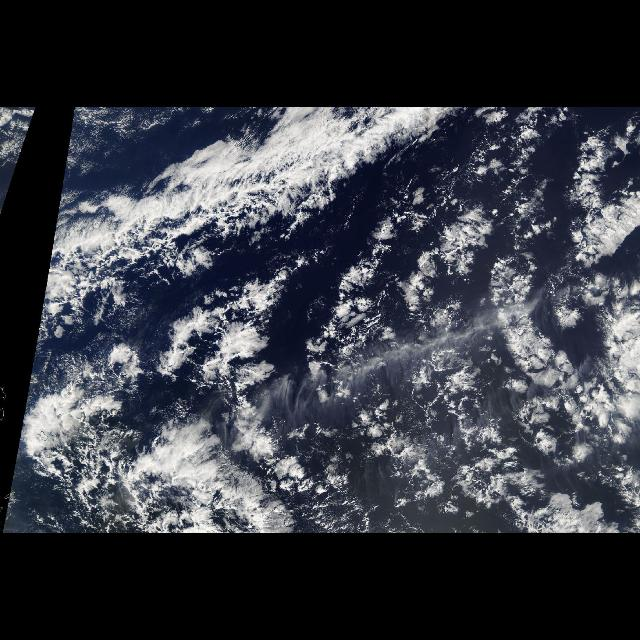Fish: (131, 282, 631, 524)
Sugar: (205, 116, 640, 534), (66, 108, 178, 152), (7, 108, 36, 152)
